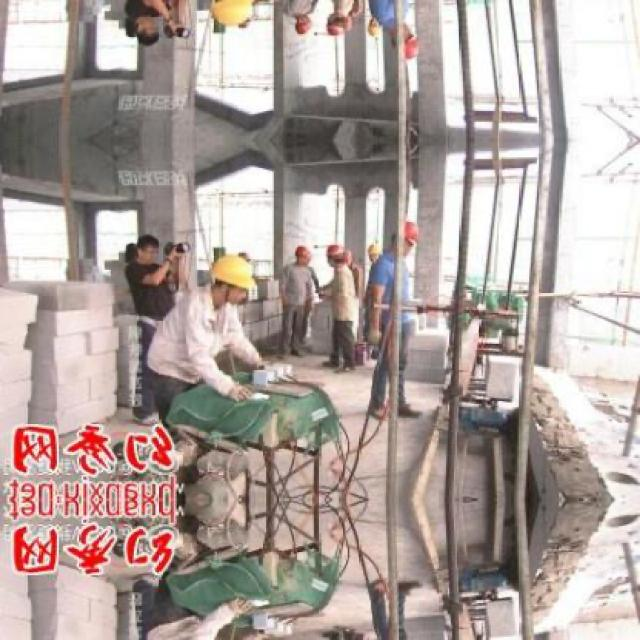con casco: (164, 243, 257, 314), (370, 222, 422, 262)
